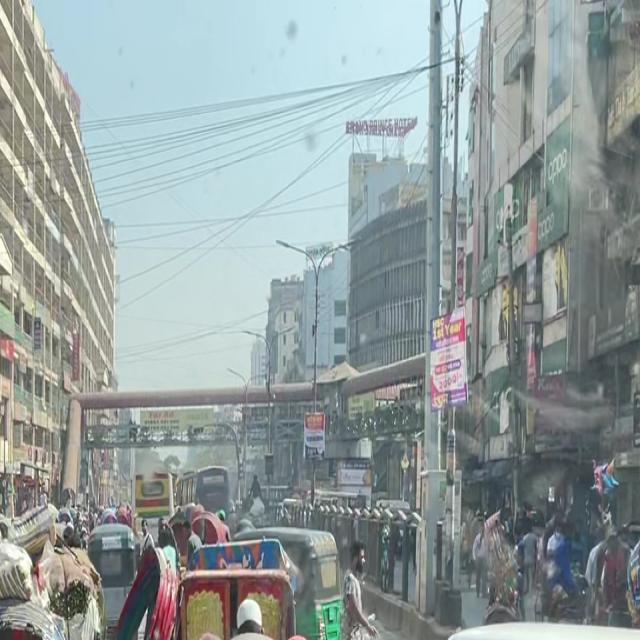car: (411, 608, 640, 640)
